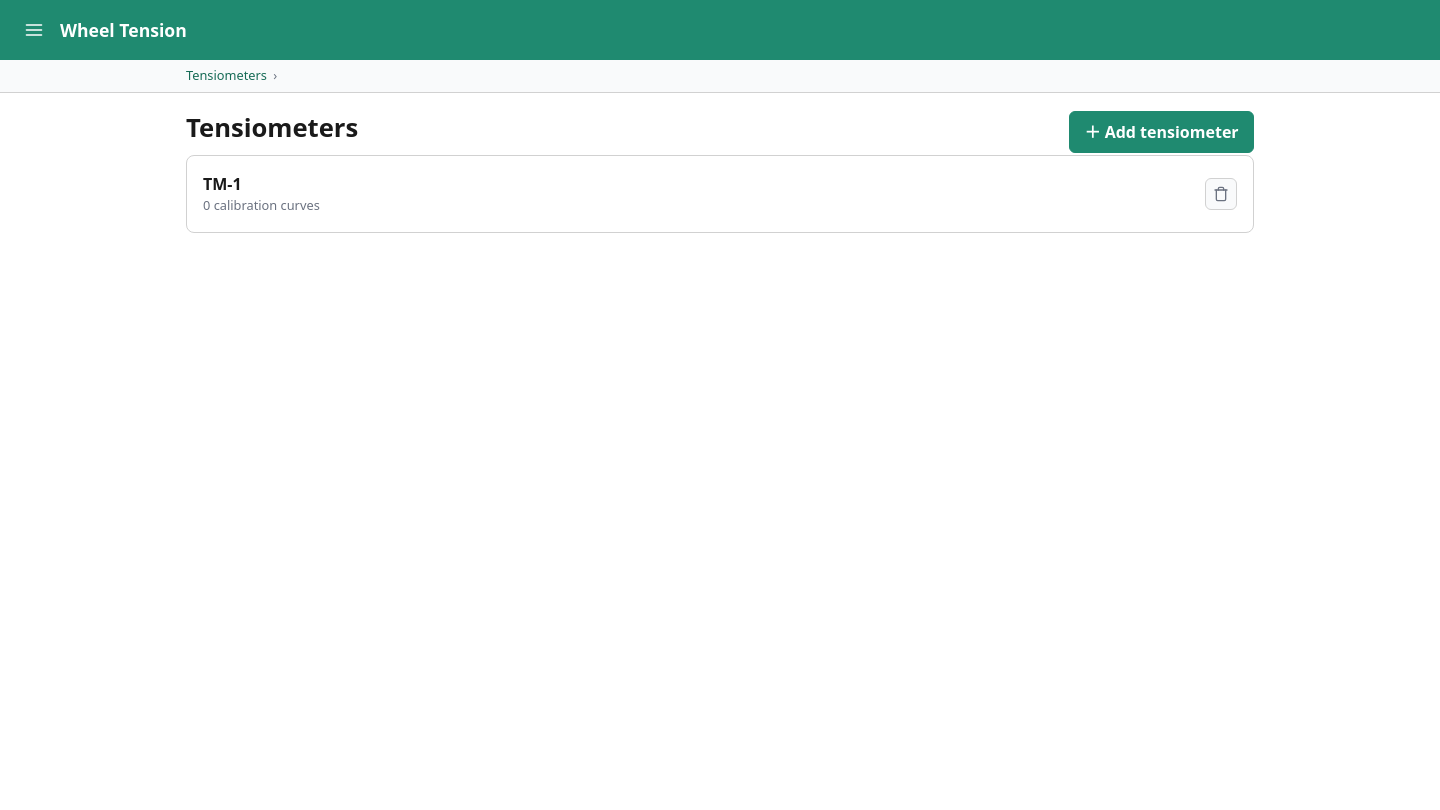
Test: TensiometerPage › deletes a tensiometer via the delete dialog
Click the button named "Delete TM-1" at (1221, 194), box x1=1205 y1=178 x2=1237 y2=210
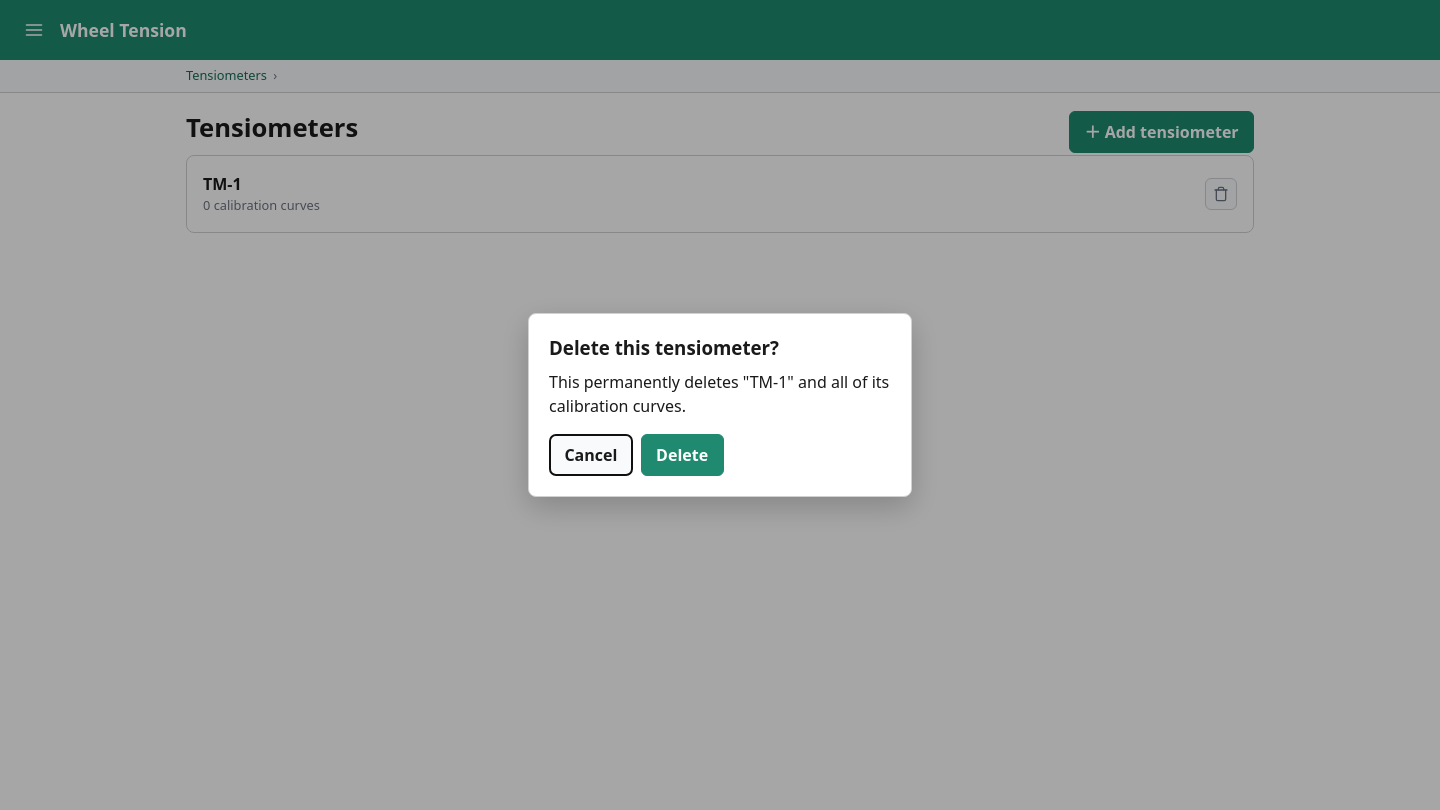
Click the button "Delete" at (682, 455), box x1=641 y1=434 x2=724 y2=476
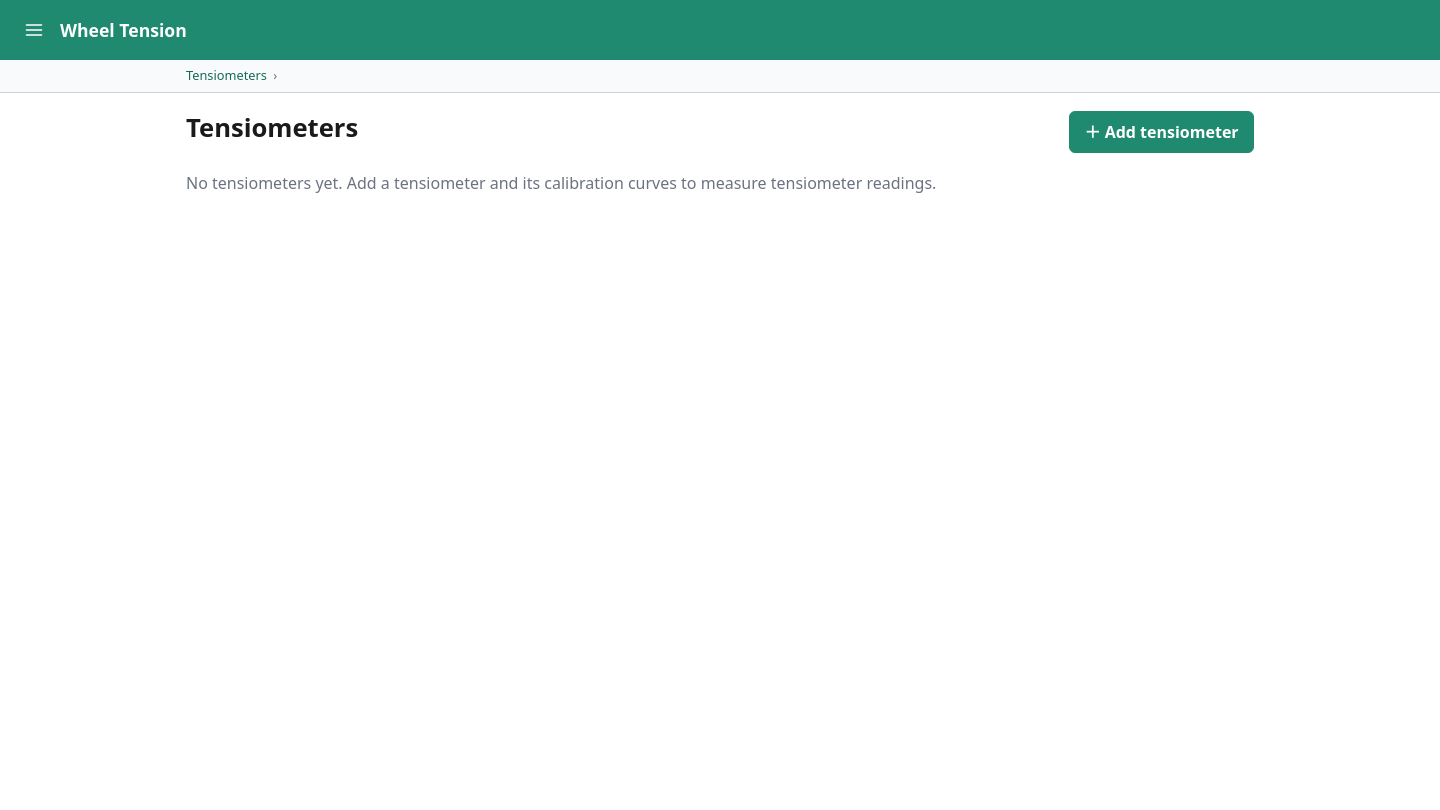
Result: the text "No tensiometers yet" is shown at x1=186 y1=172 x2=936 y2=194
